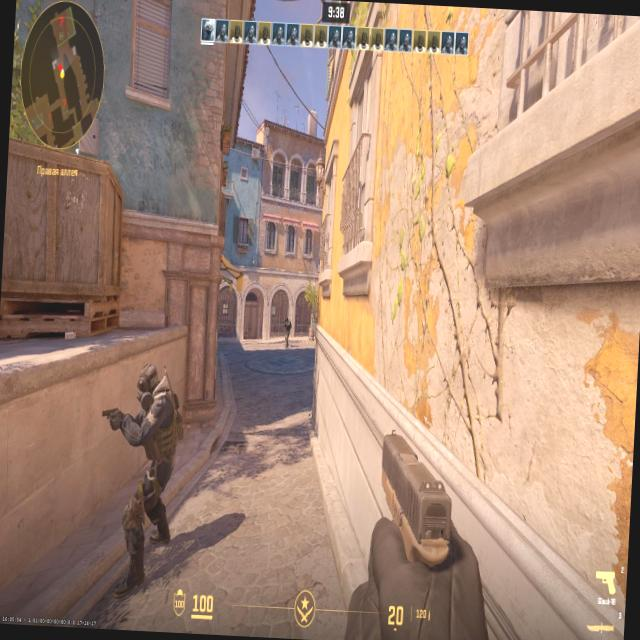CT: (134, 370, 170, 543), (286, 321, 292, 345)
CT_heat: (145, 367, 161, 401), (287, 320, 289, 324)
